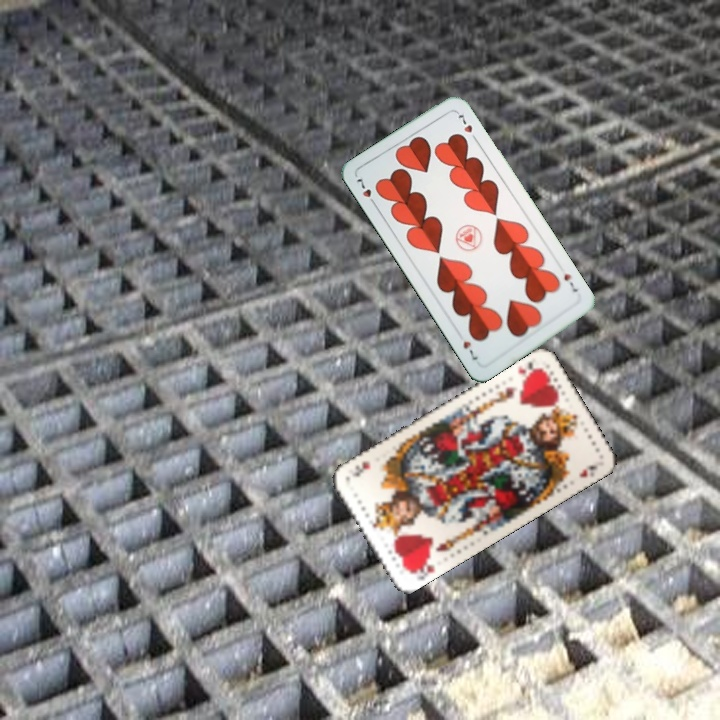H7: (352, 174, 379, 209), (560, 270, 580, 295)
HK: (404, 554, 438, 583), (513, 354, 542, 378)
